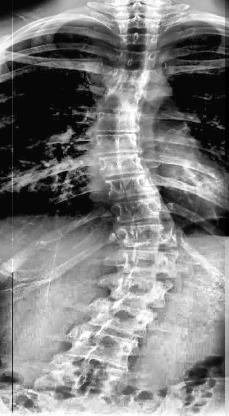Vertebrae: (36, 354, 120, 398), (68, 328, 143, 368), (86, 300, 158, 340), (106, 271, 176, 311), (110, 244, 178, 276), (112, 222, 176, 250), (112, 196, 170, 226), (102, 173, 160, 201), (97, 153, 149, 177), (94, 110, 142, 134), (92, 132, 142, 154), (114, 46, 159, 70), (100, 89, 144, 113), (107, 68, 153, 90), (116, 31, 161, 51), (118, 16, 160, 34)
